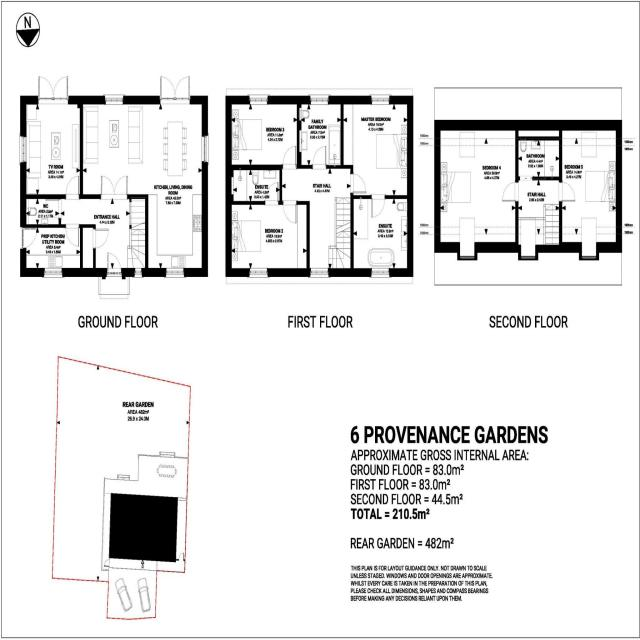DOOR: (20, 226, 38, 249), (106, 252, 122, 277), (502, 180, 519, 203), (312, 145, 327, 170), (65, 175, 80, 200), (559, 181, 576, 203), (371, 194, 386, 218), (282, 145, 297, 169), (264, 182, 279, 206), (282, 200, 297, 224), (65, 224, 80, 248), (350, 173, 367, 194)
DOUBLE DOOR: (37, 74, 69, 102), (98, 171, 129, 198), (160, 76, 190, 100)
ROOM: (80, 75, 209, 278), (434, 119, 518, 261), (341, 95, 414, 218), (559, 119, 622, 261), (20, 76, 83, 200), (225, 201, 310, 277), (225, 95, 300, 170)
WINDOW: (201, 135, 209, 163), (20, 135, 27, 163), (371, 95, 390, 105), (310, 95, 329, 105), (249, 95, 268, 105), (310, 267, 329, 277), (105, 95, 124, 105), (371, 267, 390, 277), (166, 267, 184, 277), (249, 268, 268, 277), (44, 268, 63, 277), (134, 268, 142, 277)
